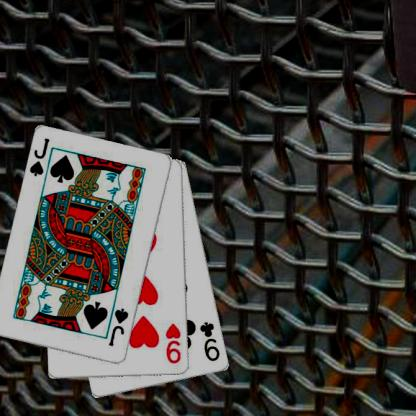9C: (198, 319, 222, 363)
9H: (164, 321, 182, 365)
JS: (106, 306, 130, 348), (27, 136, 51, 178)
